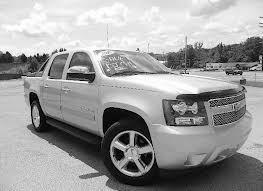car: (23, 47, 255, 183)
